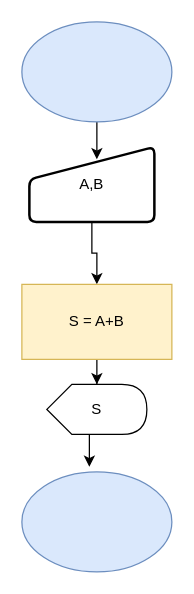
The diagram is 194 pixels wide and 594 high, and some of its shapes have lost their labels. Each missing label, with the centre of its shape:
Fim: point (96, 521)
Inicio: point (96, 71)
